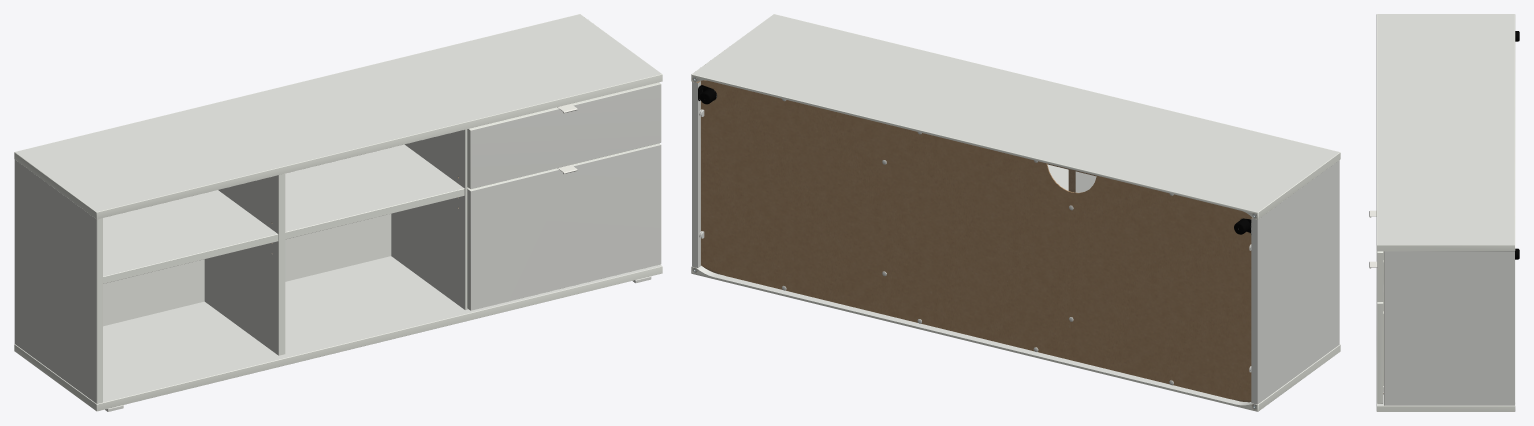
The model's file is 26 - VIHALS TV bench - white 146x37x50 cm.glb.
3 renders of one model, left to right at view 1: azimuth 30°, elevation 25°; view 2: azimuth 150°, elevation 25°; view 3: azimuth 270°, elevation 25°, orthographic. The views are drawn at different scales.
Parts seen in each view (by area): view 1: Mesh_0; view 2: Mesh_0; view 3: Mesh_0.
Boxes of the visible parts, bbox=[...] form: Mesh_0: bbox=[14, 14, 662, 411]; Mesh_0: bbox=[691, 14, 1340, 411]; Mesh_0: bbox=[1369, 14, 1519, 411].
Bounding box in the file's own units: 1.46 × 0.5 × 0.4011.
1 material, 1 textured.
